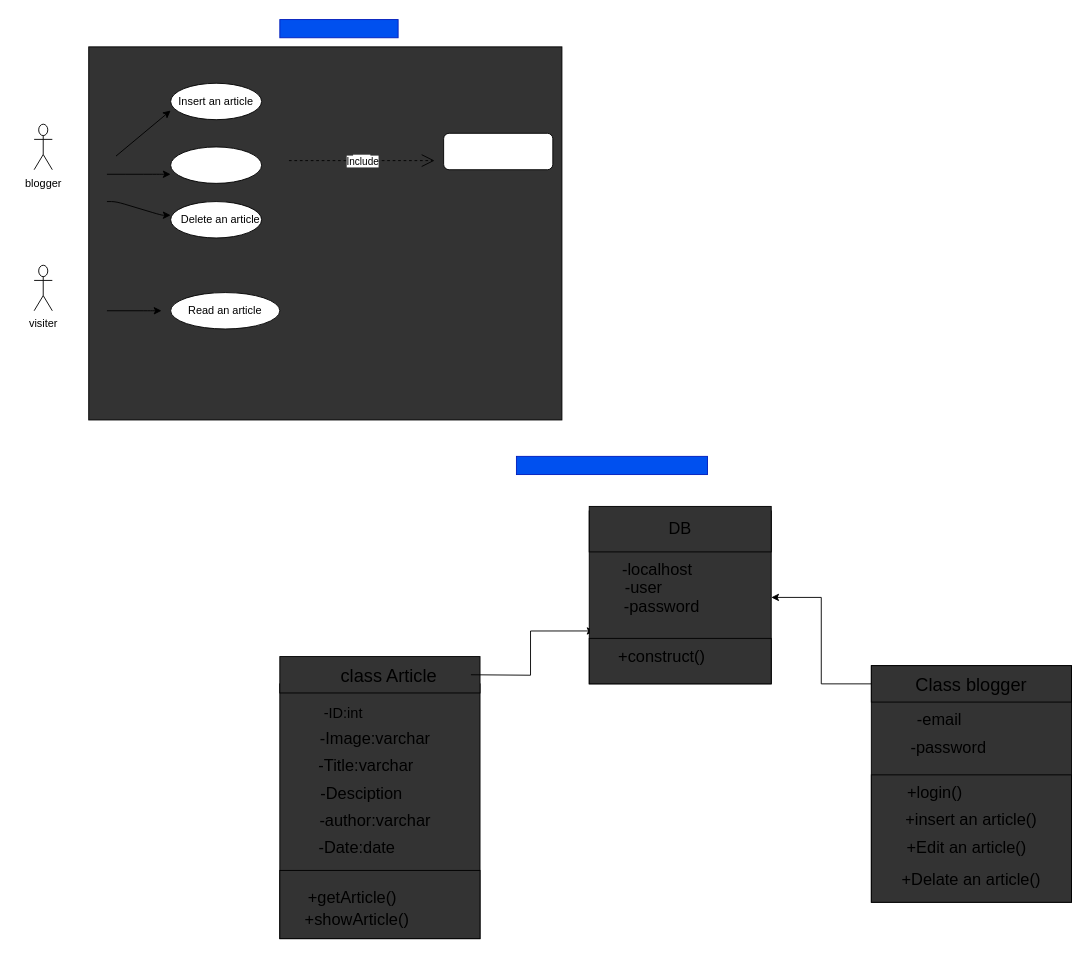
Some shapes in this 1087 by 955 pixel diagram are drawn without their labels. The shapes that lost their labels are listed below. From the top down, each one's box as (x1, y1, x2, y2) in pixels, then its label:
(279, 19, 398, 38): Use case
(170, 146, 262, 183): Edit an article
(443, 132, 553, 170): Authentifation
(516, 455, 708, 475): UML Class diagram
